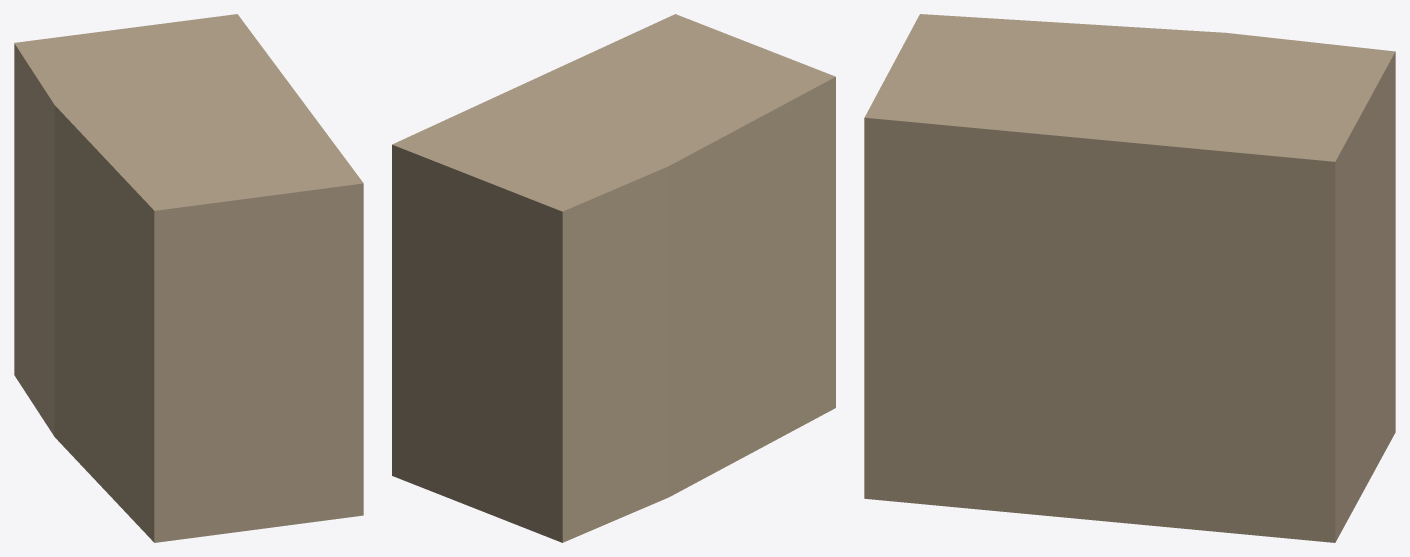
The model's file is bld_99020461.dae.
3 renders of one model, left to right at view 1: azimuth 30°, elevation 25°; view 2: azimuth 150°, elevation 25°; view 3: azimuth 270°, elevation 25°, orthographic. The views are drawn at different scales.
Parts seen in each view (by area): view 1: bld_99020461; view 2: bld_99020461; view 3: bld_99020461.
Part boxes in pixels (x1,y1,x2,y2): bld_99020461: [14, 14, 363, 542]; bld_99020461: [392, 14, 835, 542]; bld_99020461: [864, 14, 1395, 542].
Bounding box in the file's own units: 6.66 × 10.1 × 8.
